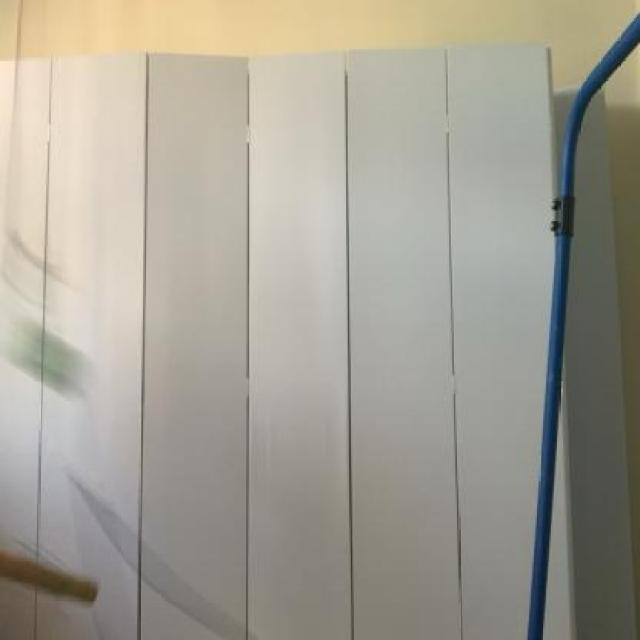baseball: (0, 311, 97, 407)
